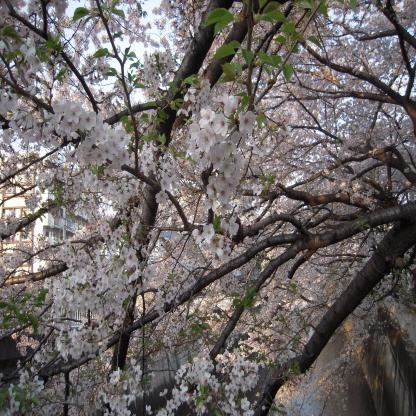Someiyoshino: (1, 2, 414, 414)
